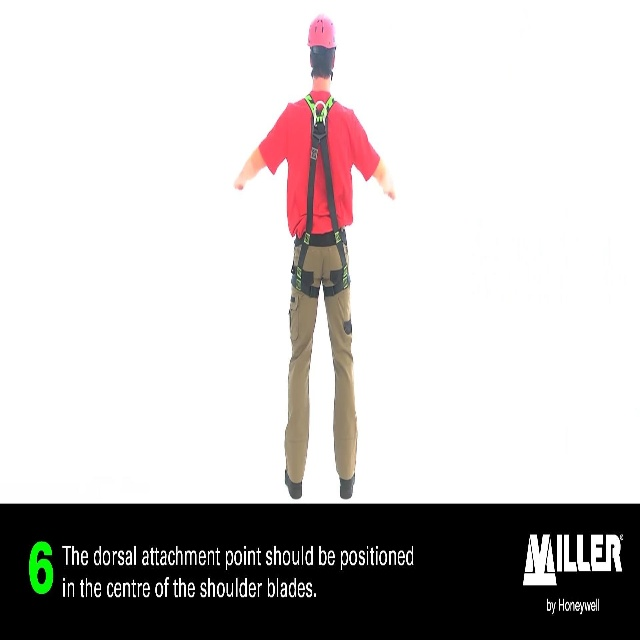Arnes_seguridad: (288, 86, 353, 304)
